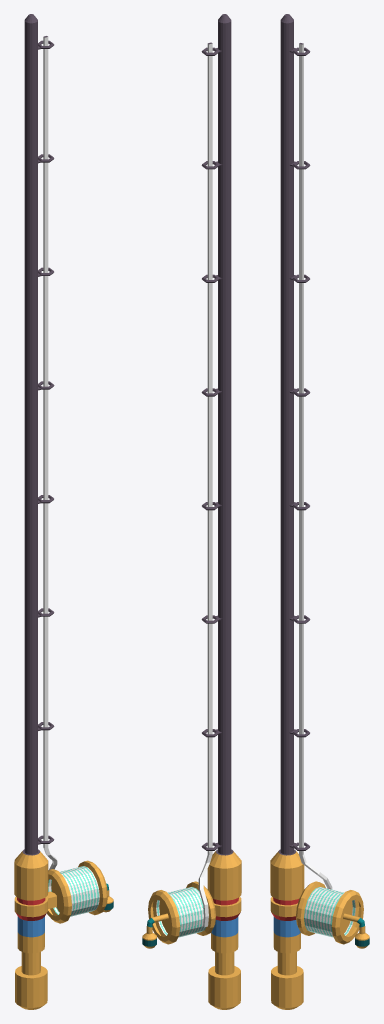
The model's file is FishingRod.glb.
The picture shows the model from 3 angles, left to right: view 1: azimuth 30°, elevation 25°; view 2: azimuth 210°, elevation 25°; view 3: azimuth 330°, elevation 25°; orthographic projection.
Parts seen in each view (by area): view 1: Cylinder; view 2: Cylinder; view 3: Cylinder.
Part boxes in pixels (box(x1,y1,x2,y2)): Cylinder: box(14, 14, 113, 1009); Cylinder: box(142, 14, 241, 1009); Cylinder: box(270, 14, 369, 1009).
Bounding box in the file's own units: 0.2027 × 2 × 0.1007.
Materials: 1 (1 with a texture image).
